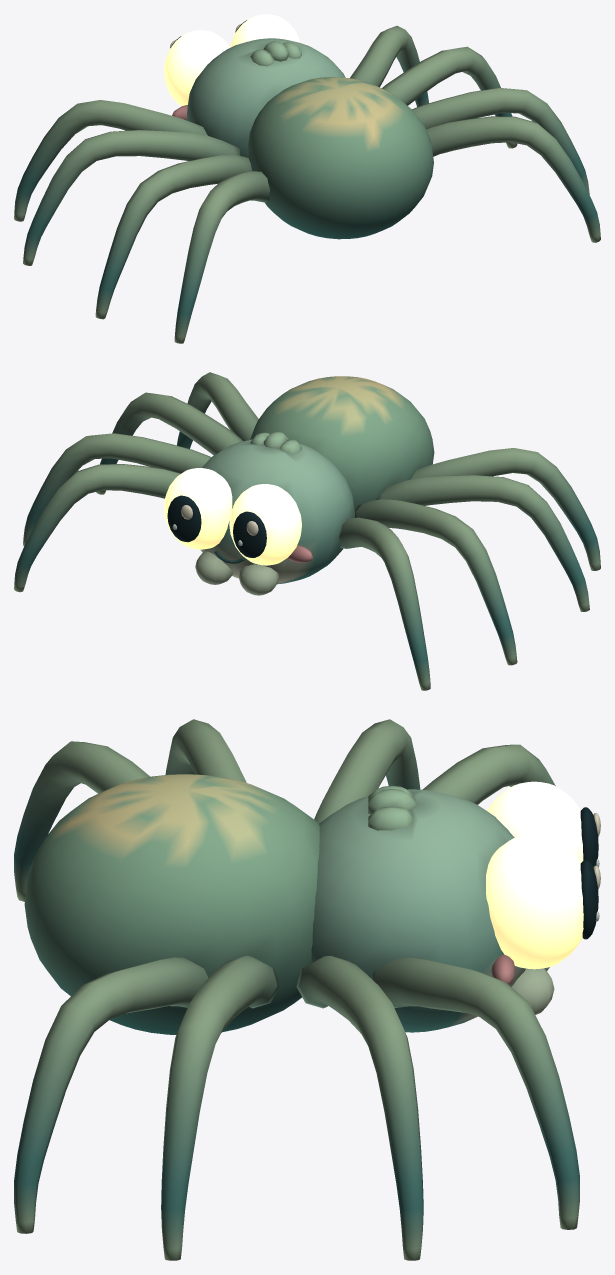
Rendered from arana-pantano-CNdexQjW.glb.
3 views of the same model, one above another, from view 1: azimuth 30°, elevation 25°; view 2: azimuth 150°, elevation 25°; view 3: azimuth 270°, elevation 25° (orthographic). The views are drawn at different scales.
Parts seen in each view (by area): view 1: Cuerpo · guardiana de hojitas, Pata 2, Pata 4, Pata 7, Pata 0, Pata 6, Pata 5, Ojos · luz de miel, Pata 3, Pata 1; view 2: Cuerpo · guardiana de hojitas, Ojos · luz de miel, Pata 4, Pata 2, Pata 1, Pata 6, Pata 3, Pata 0, Pata 5, Pata 7; view 3: Cuerpo · guardiana de hojitas, Ojos · luz de miel, Pata 1, Pata 7, Pata 3, Pata 5, Pata 6, Pata 2, Pata 0, Pata 4.
Boxes of the visible parts, x1,y1,x2,y2 form: Cuerpo · guardiana de hojitas: [170, 20, 433, 239]; Pata 2: [23, 130, 240, 265]; Pata 4: [95, 155, 251, 319]; Pata 7: [426, 116, 600, 242]; Pata 0: [14, 100, 207, 221]; Pata 6: [174, 171, 269, 343]; Pata 5: [412, 87, 589, 194]; Ojos · luz de miel: [164, 14, 300, 106]; Pata 3: [382, 46, 517, 148]; Pata 1: [350, 25, 428, 106]; Cuerpo · guardiana de hojitas: [167, 376, 434, 595]; Ojos · luz de miel: [164, 468, 301, 565]; Pata 4: [376, 475, 589, 611]; Pata 2: [354, 499, 517, 665]; Pata 1: [14, 464, 180, 592]; Pata 6: [411, 448, 600, 570]; Pata 3: [23, 433, 211, 545]; Pata 0: [339, 517, 430, 690]; Pata 5: [96, 392, 242, 494]; Pata 7: [177, 372, 258, 448]; Cuerpo · guardiana de hojitas: [24, 774, 600, 1034]; Ojos · luz de miel: [486, 781, 583, 969]; Pata 1: [371, 957, 579, 1229]; Pata 7: [14, 957, 208, 1233]; Pata 3: [296, 955, 423, 1260]; Pata 5: [161, 955, 279, 1260]; Pata 6: [14, 741, 149, 901]; Pata 2: [314, 719, 420, 823]; Pata 0: [422, 744, 555, 804]; Pata 4: [165, 719, 246, 782].
Size of the model in its own units: 2.03 by 0.6619 by 1.27.
